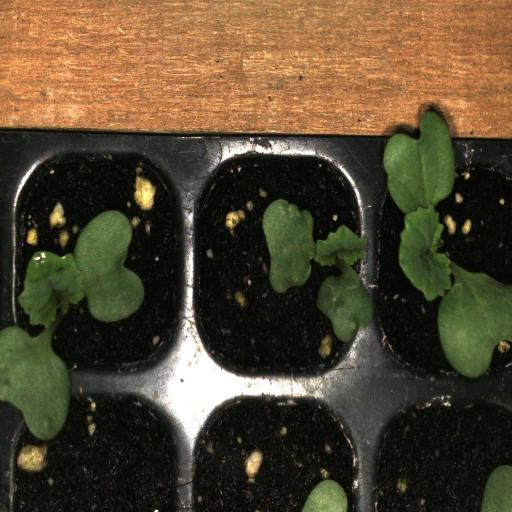seedling: (6, 148, 189, 388), (371, 148, 512, 386)
weak: (190, 150, 371, 387)
